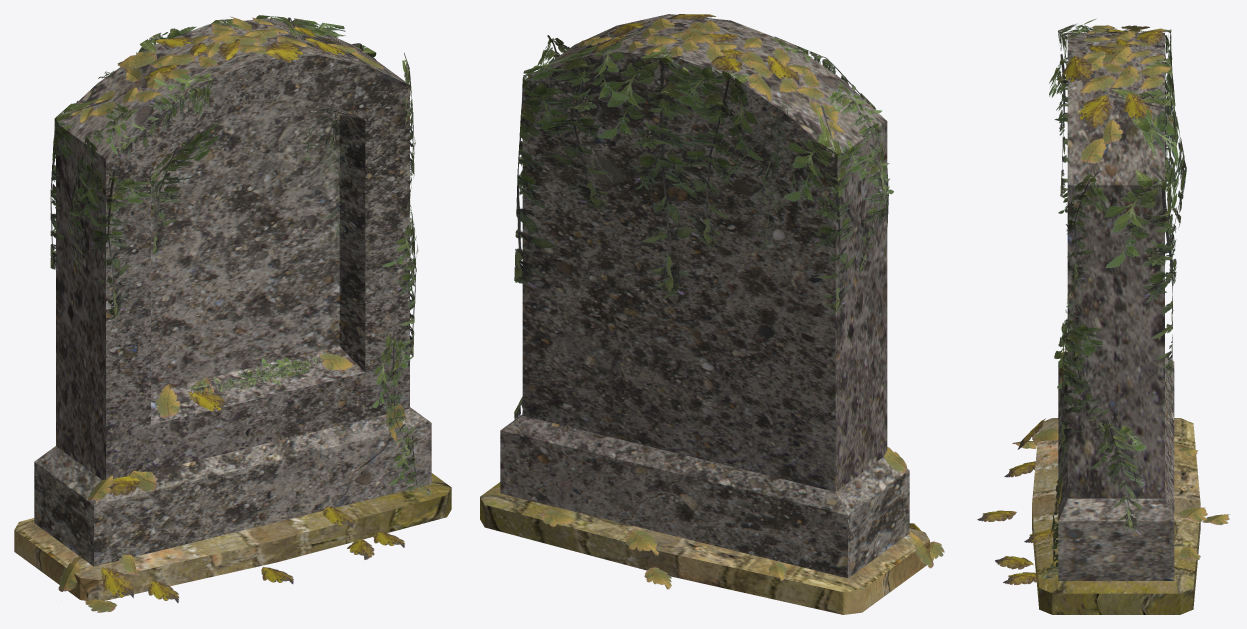
The model's file is grave.glb.
3 views of the same model, side by side, from view 1: azimuth 30°, elevation 25°; view 2: azimuth 150°, elevation 25°; view 3: azimuth 270°, elevation 25° (orthographic). The views are drawn at different scales.
Parts seen in each view (by area): view 1: Object_3, Object_2, Object_4, Object_7, Object_6, Object_10, Object_12, Object_9, Object_11, Object_8, Object_5; view 2: Object_3, Object_2, Object_7, Object_4, Object_6, Object_10, Object_5, Object_9, Object_12, Object_11; view 3: Object_3, Object_7, Object_4, Object_2, Object_10, Object_12, Object_5, Object_6, Object_11, Object_9.
Part boxes in pixels (x1=…): Object_3: x1=56, y1=18, x2=409, y2=479; Object_2: x1=34, y1=99, x2=431, y2=566; Object_4: x1=14, y1=473, x2=451, y2=600; Object_7: x1=50, y1=19, x2=431, y2=495; Object_6: x1=68, y1=26, x2=418, y2=458; Object_10: x1=69, y1=16, x2=406, y2=612; Object_12: x1=101, y1=26, x2=404, y2=602; Object_9: x1=98, y1=69, x2=418, y2=255; Object_11: x1=58, y1=23, x2=355, y2=591; Object_8: x1=215, y1=356, x2=323, y2=391; Object_5: x1=255, y1=15, x2=345, y2=40; Object_3: x1=522, y1=14, x2=887, y2=491; Object_2: x1=500, y1=414, x2=909, y2=578; Object_7: x1=514, y1=35, x2=888, y2=419; Object_4: x1=480, y1=482, x2=929, y2=614; Object_6: x1=671, y1=65, x2=893, y2=274; Object_10: x1=541, y1=17, x2=944, y2=589; Object_5: x1=523, y1=31, x2=641, y2=211; Object_9: x1=719, y1=95, x2=795, y2=252; Object_12: x1=591, y1=14, x2=921, y2=531; Object_11: x1=625, y1=28, x2=933, y2=568; Object_3: x1=1067, y1=33, x2=1164, y2=498; Object_7: x1=1041, y1=18, x2=1180, y2=578; Object_4: x1=1032, y1=418, x2=1200, y2=614; Object_2: x1=1058, y1=358, x2=1174, y2=580; Object_10: x1=1012, y1=25, x2=1229, y2=560; Object_12: x1=977, y1=29, x2=1164, y2=584; Object_5: x1=1108, y1=85, x2=1186, y2=245; Object_6: x1=1051, y1=25, x2=1172, y2=532; Object_11: x1=1102, y1=45, x2=1207, y2=521; Object_9: x1=1061, y1=29, x2=1177, y2=346.
Bounding box in the file's own units: 2.27 × 2.83 × 1.36.
11 materials, 11 textured.
